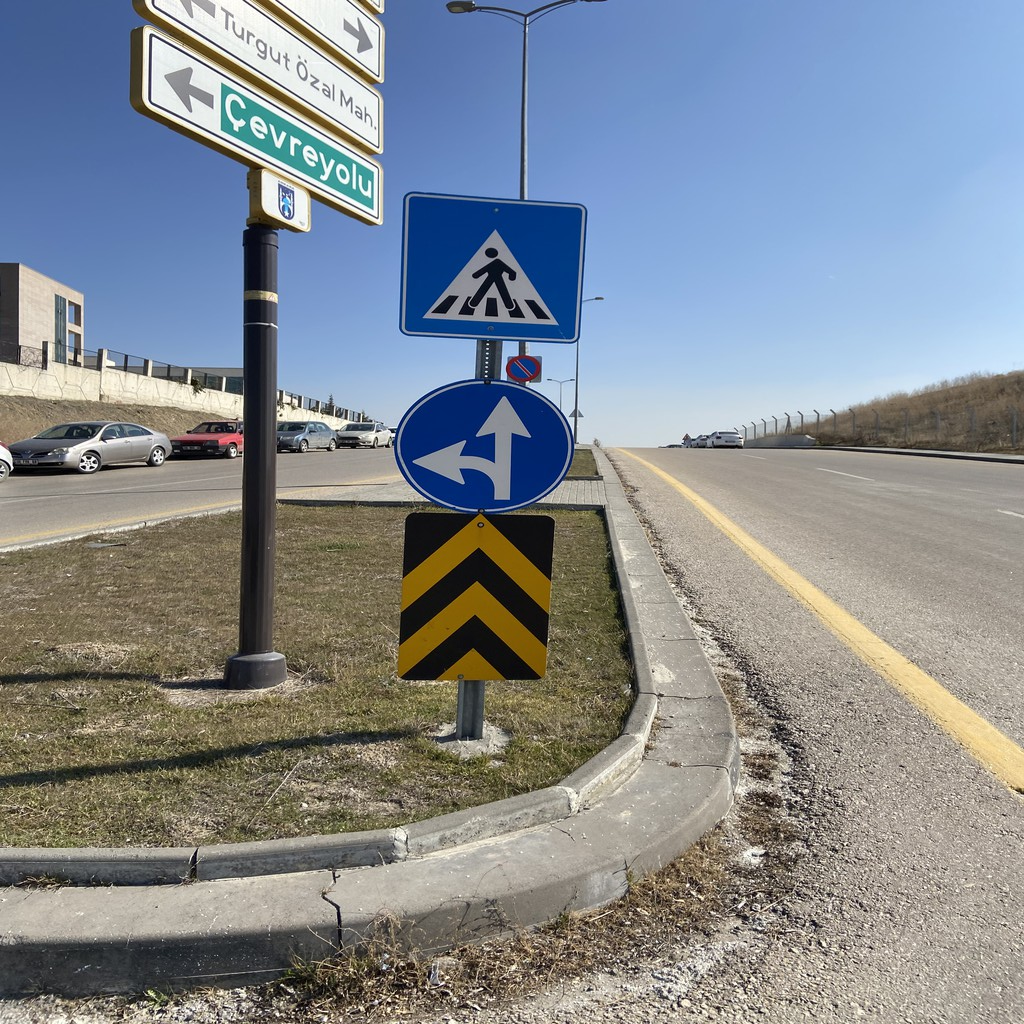Yaya Gecidi: (410, 192, 588, 341)
ileri ve Sola Mecburi Don: (391, 367, 575, 503)
